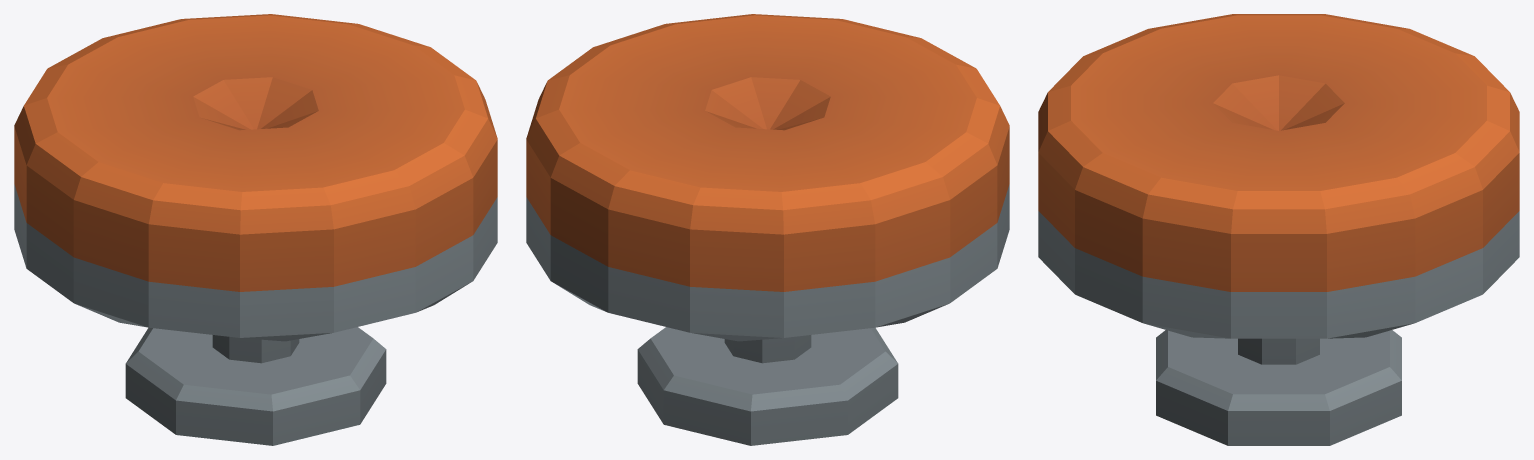
The model's file is Stool.obj.
The picture shows the model from 3 angles, left to right: view 1: azimuth 30°, elevation 25°; view 2: azimuth 150°, elevation 25°; view 3: azimuth 270°, elevation 25°; orthographic projection.
Parts seen in each view (by area): view 1: Cylinder.374; view 2: Cylinder.374; view 3: Cylinder.374.
Boxes of the visible parts, bbox=[...] form: Cylinder.374: bbox=[14, 14, 497, 445]; Cylinder.374: bbox=[526, 14, 1009, 445]; Cylinder.374: bbox=[1038, 14, 1519, 445].
Bounding box in the file's own units: 0.75 × 0.5 × 0.75.
1 material, 1 textured.
